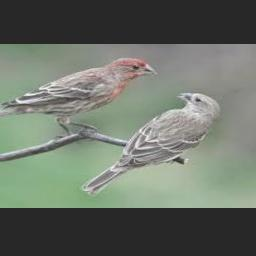Sparrow: (81, 93, 221, 196), (0, 58, 156, 136)
